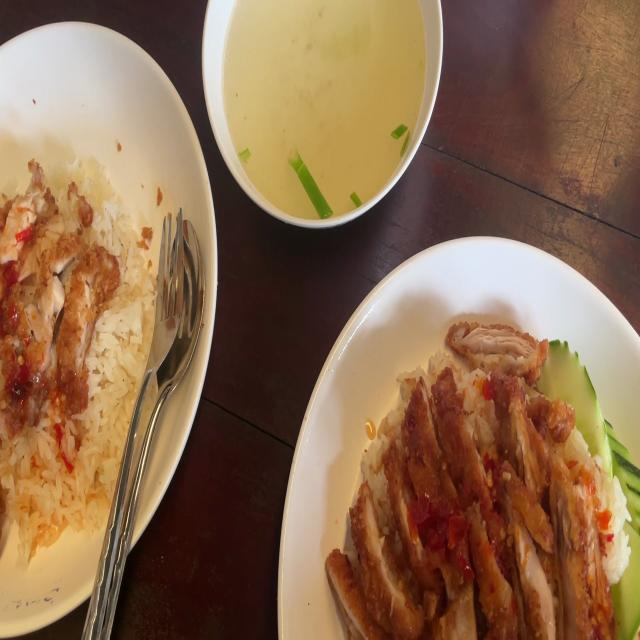chicken_rice: (320, 315, 640, 639), (0, 155, 157, 542)
cucumber: (538, 334, 613, 494), (599, 411, 640, 640)
fried_chicken: (325, 317, 599, 640), (0, 160, 118, 410)
